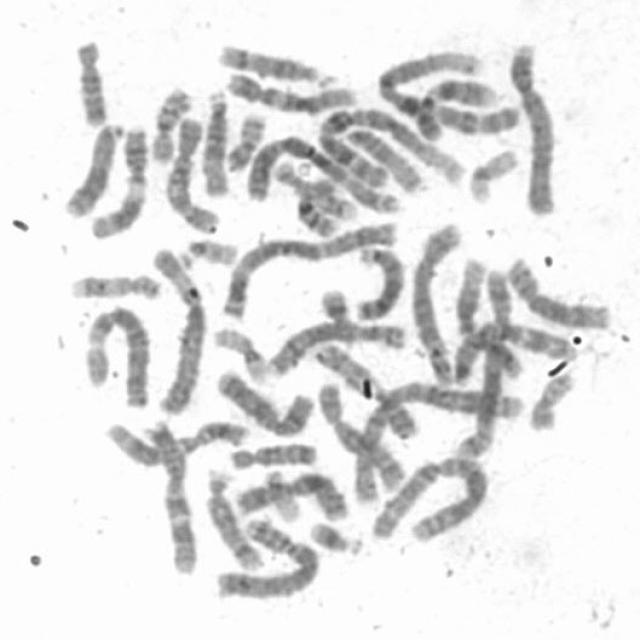A1: (373, 43, 520, 138), (312, 100, 467, 190)
A2: (348, 375, 528, 507), (363, 450, 492, 546)
A3: (218, 216, 403, 320), (242, 129, 403, 216)
B4: (504, 36, 562, 217), (213, 513, 323, 600)
B5: (448, 259, 520, 462), (405, 216, 466, 384)
C10: (312, 376, 409, 493), (160, 113, 220, 235)
C11: (84, 118, 152, 242), (99, 414, 248, 467)
C12: (449, 253, 527, 383), (220, 66, 360, 116)
C6: (141, 241, 207, 418), (78, 299, 154, 411)
C7: (138, 414, 201, 576), (446, 316, 578, 386)
C8: (263, 314, 410, 378), (502, 251, 616, 331)
C9: (322, 354, 420, 438), (408, 72, 501, 142)
D13: (59, 114, 130, 220), (350, 240, 408, 322)
D14: (201, 462, 267, 572), (213, 36, 337, 88)
D15: (342, 121, 431, 195), (196, 84, 231, 200)
E16: (145, 80, 194, 164), (288, 173, 341, 239)
E17: (269, 157, 359, 220), (65, 266, 166, 302)
E18: (69, 34, 111, 128), (225, 436, 319, 471)
F19: (208, 321, 271, 384), (463, 142, 523, 206)
F20: (524, 367, 579, 432), (220, 106, 270, 173)
G21: (314, 281, 356, 348), (305, 515, 366, 557)
G22: (259, 465, 304, 523), (173, 232, 241, 270)
X: (209, 363, 318, 438), (227, 465, 351, 522)
